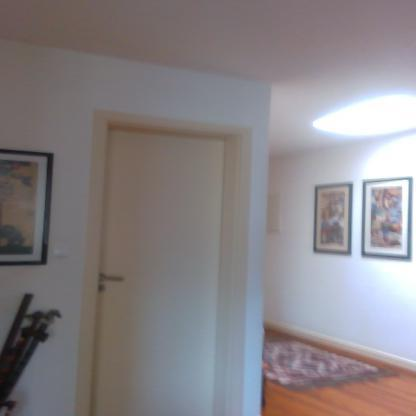door: (98, 128, 222, 416)
lever: (98, 274, 126, 286)
